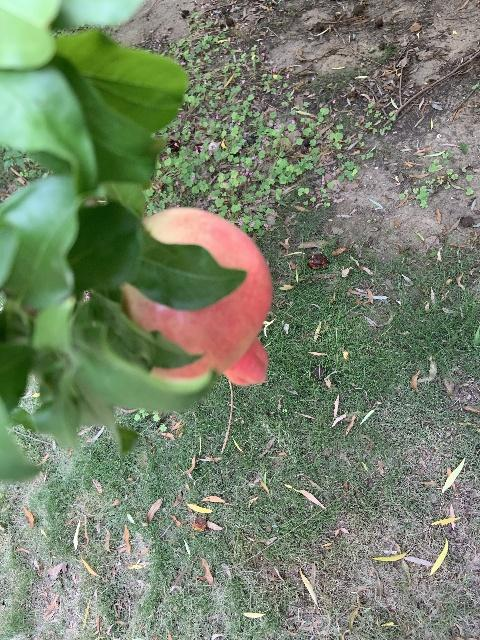ripe: (122, 207, 272, 386)
